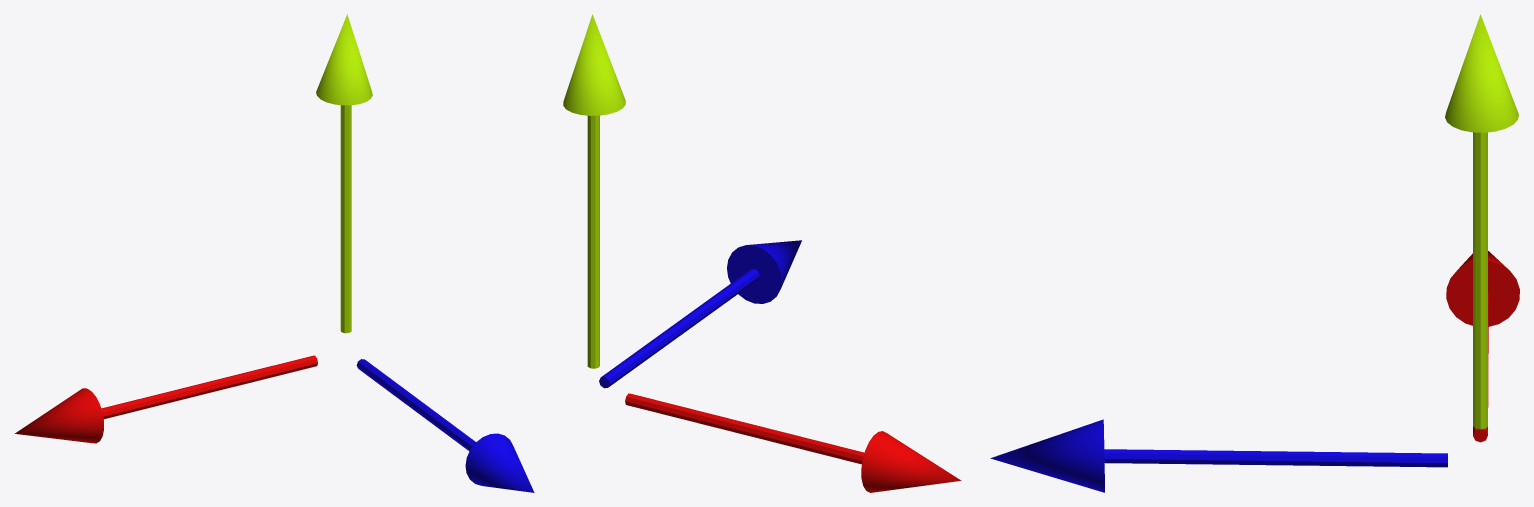
File: MovePosition.fbx
The picture shows the model from 3 angles, left to right: view 1: azimuth 30°, elevation 25°; view 2: azimuth 150°, elevation 25°; view 3: azimuth 270°, elevation 25°; orthographic projection. The views are drawn at different scales.
Visible parts, largest first — view 1: pasted__pCylinder1 (×2), pCone2, pasted__pCone2, pCone1, pCylinder1; view 2: pasted__pCylinder1 (×2), pCone2, pasted__pCone2, pCylinder1, pCone1; view 3: pasted__pCylinder1 (×2), pCone2, pCone1, pasted__pCone2.
Boxes of the visible parts, x1,y1,x2,y2 form: pasted__pCylinder1 (×2): (340,105,475,451); pCone2: (316,14,372,105); pasted__pCone2: (15,388,103,443); pCone1: (465,433,534,492); pCylinder1: (101,355,317,419); pasted__pCylinder1 (×2): (587,115,759,388); pCone2: (563,14,625,115); pasted__pCone2: (861,431,961,492); pCylinder1: (625,393,864,464); pCone1: (727,240,801,303); pasted__pCylinder1 (×2): (1104,132,1487,467); pCone2: (1445,14,1518,132); pCone1: (990,419,1104,492); pasted__pCone2: (1446,251,1519,326).
Bounding box in the file's own units: 7.16 × 7.03 × 7.08.
